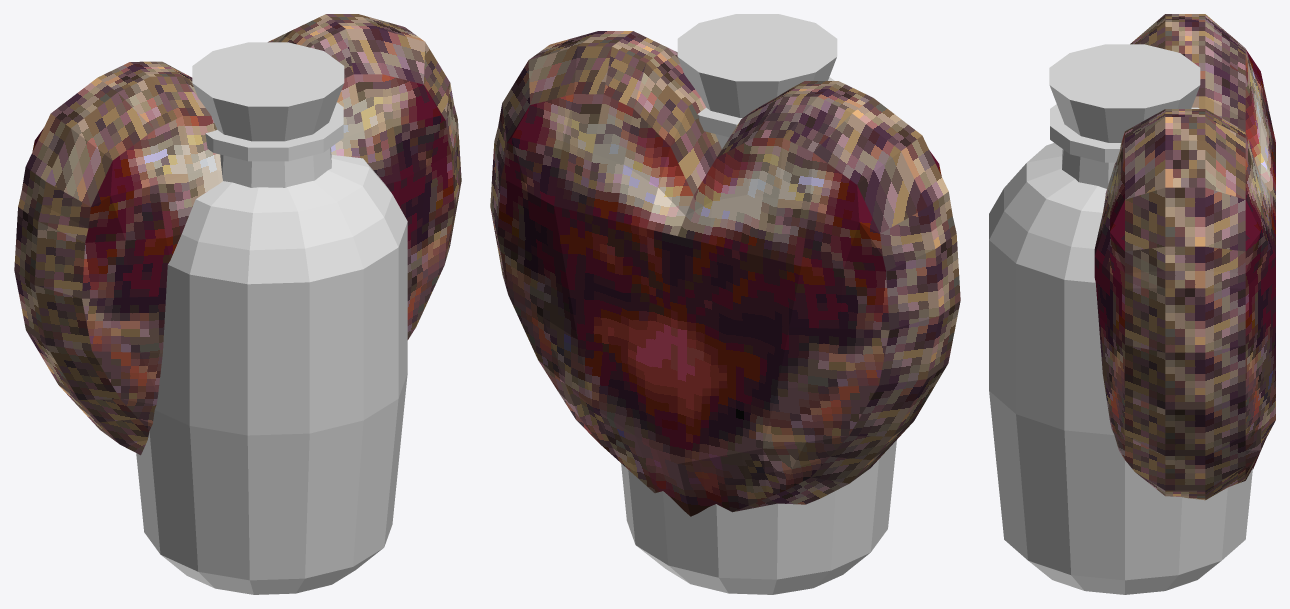
File: Heal.fbx
The picture shows the model from 3 angles, left to right: view 1: azimuth 30°, elevation 25°; view 2: azimuth 150°, elevation 25°; view 3: azimuth 270°, elevation 25°; orthographic projection. The views are drawn at different scales.
Visible parts, largest first — view 1: cylinder, mesh, cylinder_1; view 2: mesh, cylinder, cylinder_1; view 3: mesh, cylinder, cylinder_1.
Boxes of the visible parts, x1,y1,x2,y2 form: cylinder: (136, 154, 407, 594); mesh: (14, 14, 461, 455); cylinder_1: (192, 42, 344, 187); mesh: (490, 31, 960, 516); cylinder: (621, 440, 896, 594); cylinder_1: (677, 14, 837, 148); mesh: (1094, 14, 1275, 500); cylinder: (989, 143, 1252, 594); cylinder_1: (1049, 44, 1200, 188).
Bounding box in the file's own units: 203 × 228 × 119.
Materials: 1 (1 with a texture image).
